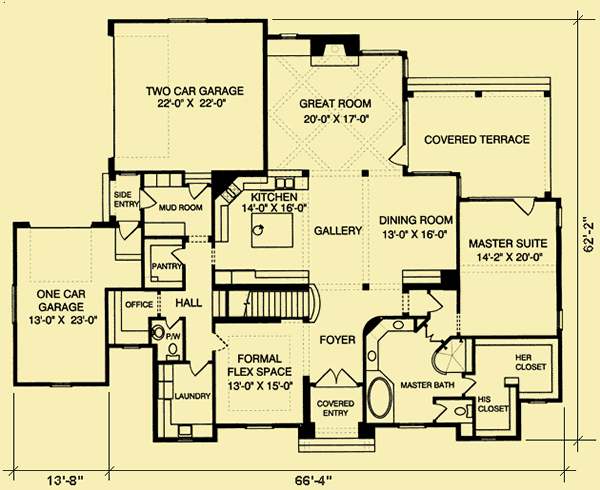bedroom has his and her closet: (459, 196, 561, 440)
kitchen has a dining counter, twin sink and cooking facility: (209, 177, 318, 285)
laundry room has a washer and dryer: (153, 360, 218, 443)
master bathrppm has a tub and shower space, his and her sink and large sink: (362, 318, 477, 439)
small bathroom has small and large sink: (148, 318, 191, 362)
stairs to the other floors: (207, 286, 324, 323)
there is a two car garage: (107, 17, 269, 178)
this is a small garage with one car space: (14, 224, 106, 389)
